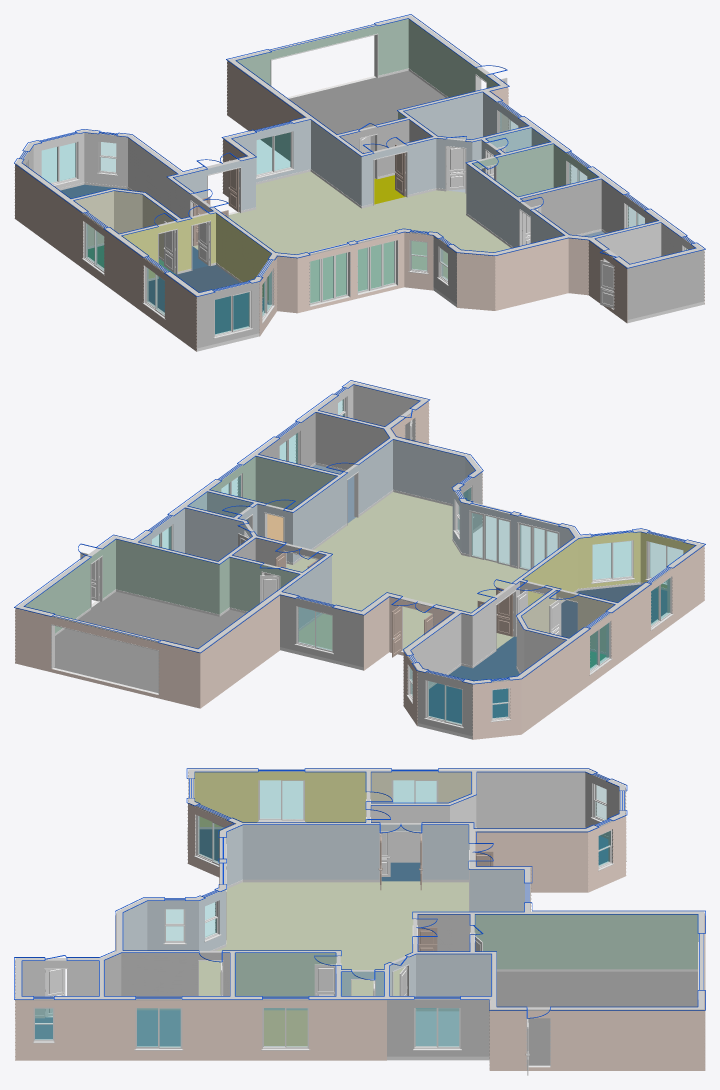
The model's file is floor_plan_generator_test_output.glb.
The picture shows the model from 3 angles, top to bottom: view 1: azimuth 30°, elevation 25°; view 2: azimuth 150°, elevation 25°; view 3: azimuth 270°, elevation 25°; orthographic projection. The views are drawn at different scales.
Visible parts, largest first — view 1: Walls, Clad, Floor, Windows and doors, CAD Plan, Trims, BaseBoards, Ledge; view 2: Walls, Floor, Clad, Windows and doors, CAD Plan, Trims, BaseBoards, Ledge; view 3: Walls, Clad, Floor, Windows and doors, CAD Plan, BaseBoards, Trims, Ledge.
Part boxes in pixels (x1=…): Walls: x1=15, y1=15, x2=704, y2=348; Clad: x1=14, y1=61, x2=704, y2=351; Floor: x1=60, y1=70, x2=704, y2=351; Windows and doors: x1=25, y1=77, x2=687, y2=336; CAD Plan: x1=14, y1=14, x2=705, y2=296; Trims: x1=158, y1=33, x2=614, y2=308; BaseBoards: x1=57, y1=68, x2=606, y2=302; Ledge: x1=52, y1=166, x2=448, y2=338; Walls: x1=16, y1=381, x2=703, y2=736; Floor: x1=52, y1=465, x2=667, y2=739; Clad: x1=15, y1=400, x2=704, y2=739; Windows and doors: x1=80, y1=397, x2=683, y2=726; CAD Plan: x1=14, y1=380, x2=705, y2=684; Trims: x1=51, y1=417, x2=578, y2=693; BaseBoards: x1=55, y1=462, x2=667, y2=688; Ledge: x1=294, y1=516, x2=673, y2=728; Walls: x1=15, y1=769, x2=704, y2=1056; Clad: x1=15, y1=772, x2=705, y2=1070; Floor: x1=35, y1=829, x2=697, y2=1067; Windows and doors: x1=33, y1=780, x2=611, y2=1075; CAD Plan: x1=14, y1=768, x2=705, y2=1018; BaseBoards: x1=35, y1=827, x2=697, y2=1018; Trims: x1=44, y1=799, x2=698, y2=1066; Ledge: x1=32, y1=815, x2=626, y2=1050.
Size of the model in its own units: 0.2282 by 0.0261 by 0.2671.
